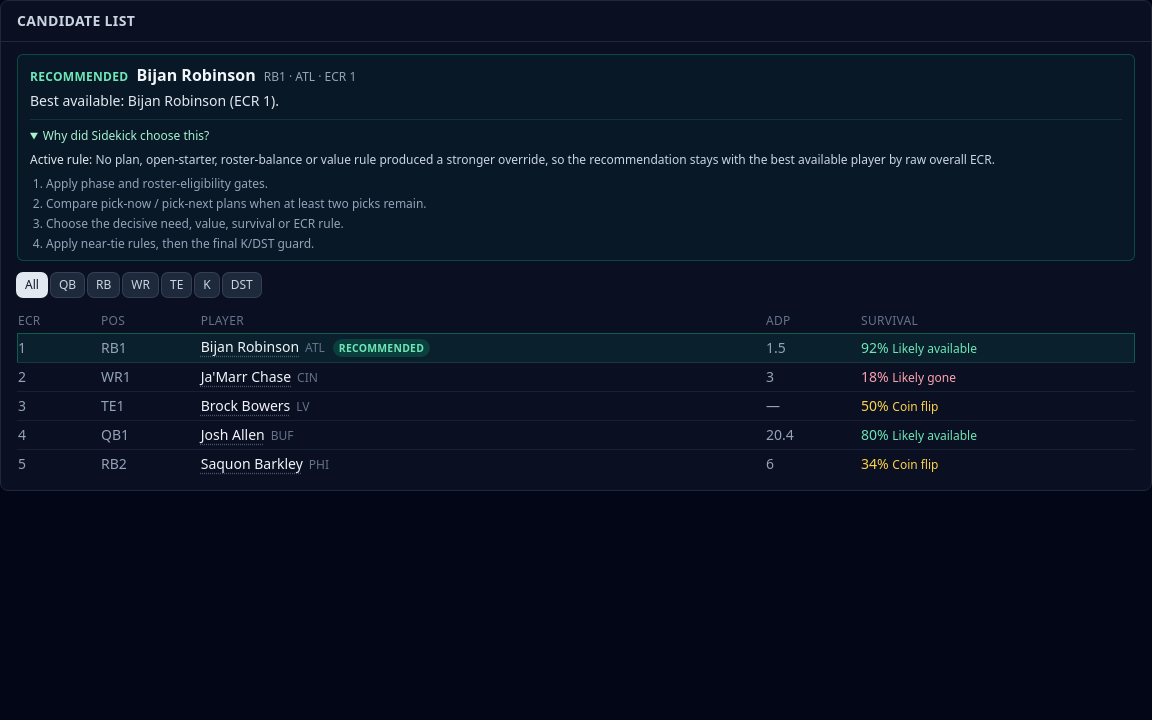
Test case: the position filter › shows K and DST rows in positional ECR order with no survival math (AC-50, AS-7)
The width and height of the screenshot is (1152, 720).
Click the button "K" at [207, 285], box top-left (195, 273), bottom-right (219, 297)
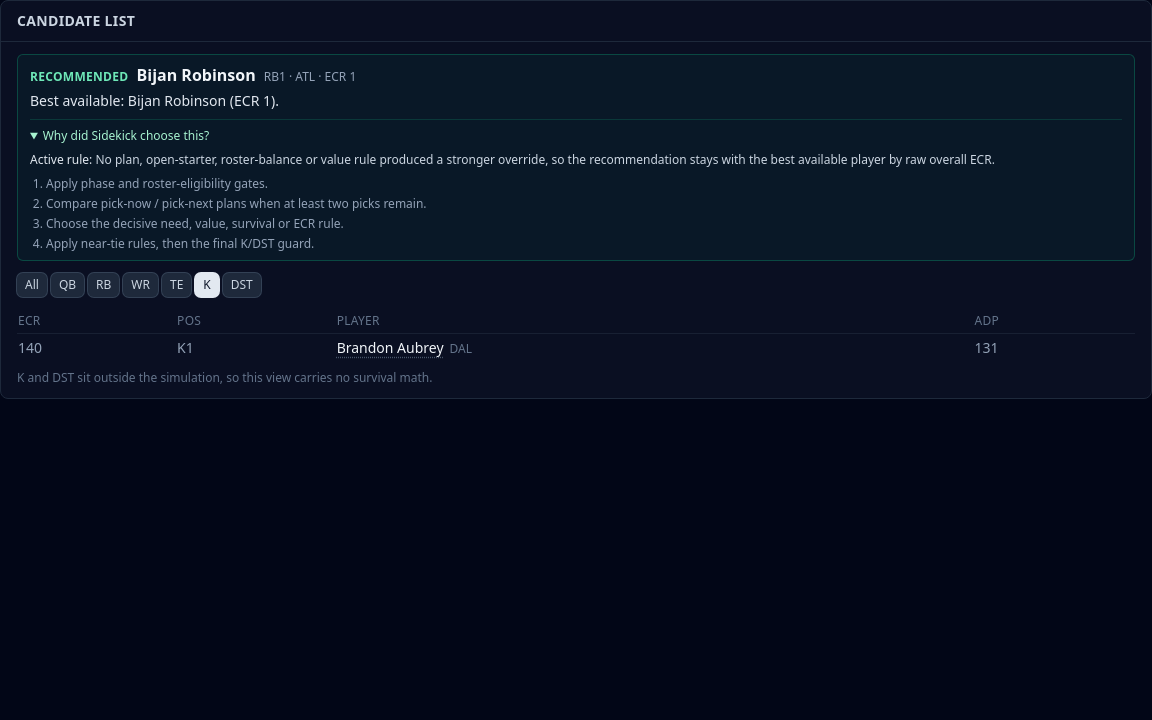
Result: the text "no survival math" is shown at top-left (17, 369), bottom-right (432, 386)
Click the button "DST" at [242, 285], box top-left (223, 273), bottom-right (261, 297)
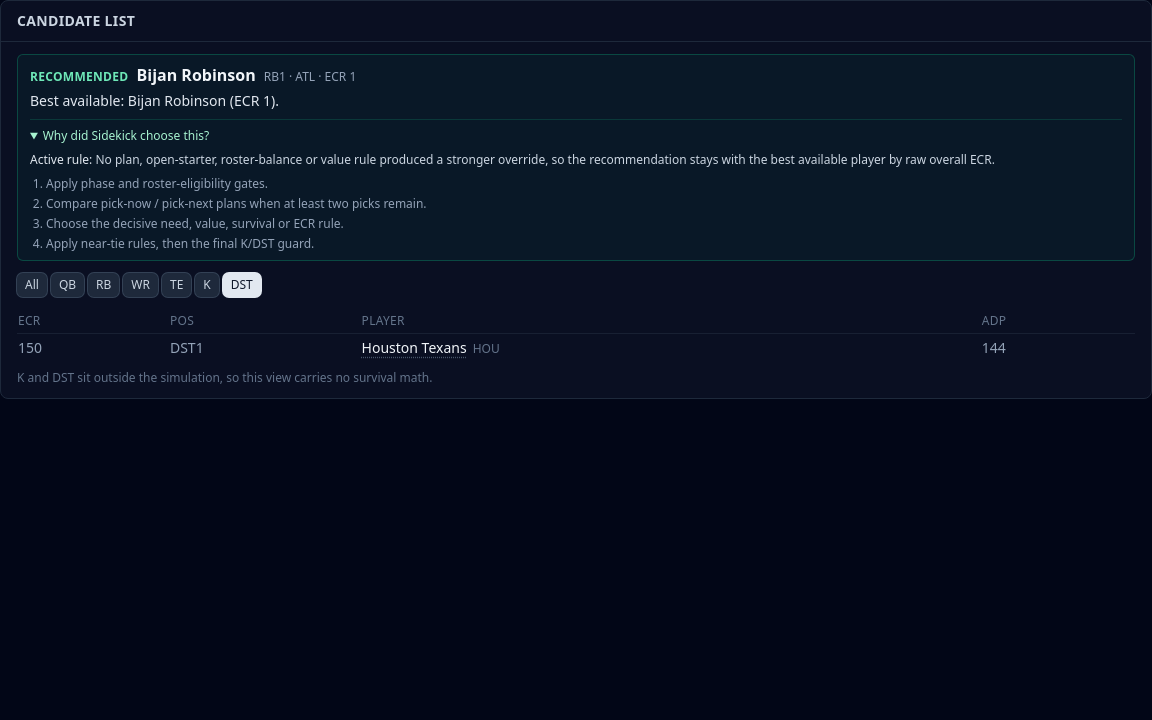
Result: the button "Houston Texans" is shown at top-left (362, 338), bottom-right (467, 358)
